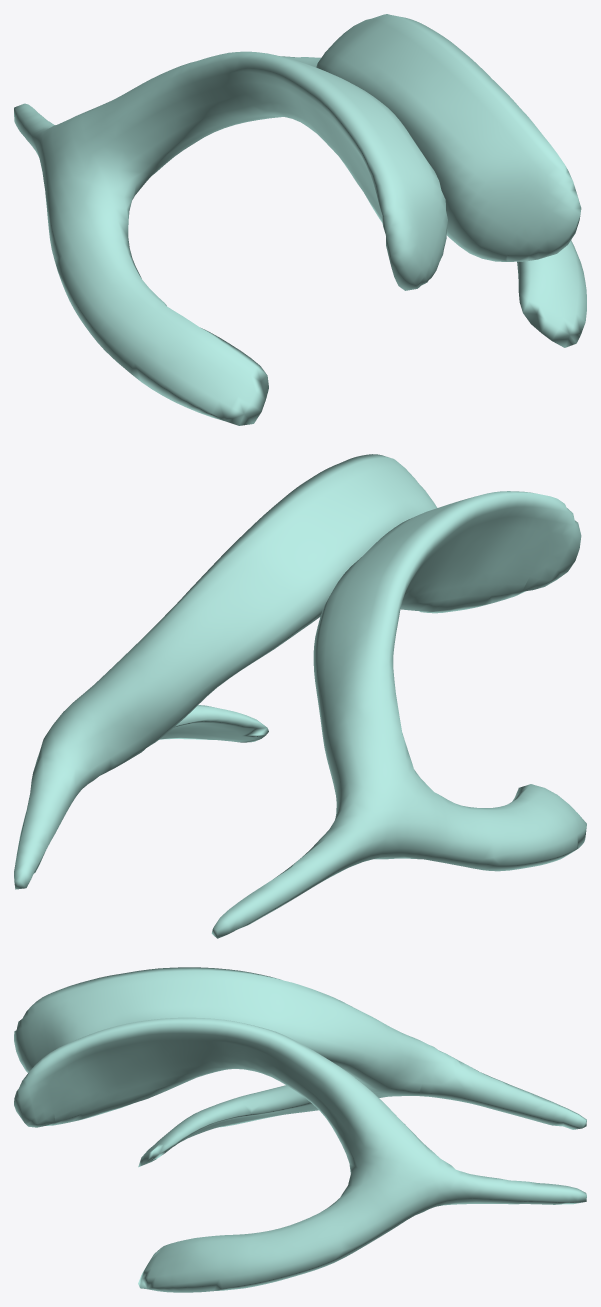
Rendered from lateral-ventricle.glb.
The picture shows the model from 3 angles, top to bottom: view 1: azimuth 30°, elevation 25°; view 2: azimuth 150°, elevation 25°; view 3: azimuth 270°, elevation 25°; orthographic projection. The views are drawn at different scales.
Parts seen in each view (by area): view 1: Lateral ventricle.r, Lateral ventricle.l; view 2: Lateral ventricle.r, Lateral ventricle.l; view 3: Lateral ventricle.l, Lateral ventricle.r.
Part boxes in pixels (x1=…): Lateral ventricle.r: x1=14, y1=51, x2=447, y2=425; Lateral ventricle.l: x1=281, y1=14, x2=586, y2=347; Lateral ventricle.r: x1=211, y1=491, x2=586, y2=938; Lateral ventricle.l: x1=14, y1=454, x2=437, y2=889; Lateral ventricle.l: x1=14, y1=1017, x2=586, y2=1292; Lateral ventricle.r: x1=14, y1=967, x2=586, y2=1167.
Bounding box in the file's own units: 0.0752 × 0.0472 × 0.1059.
